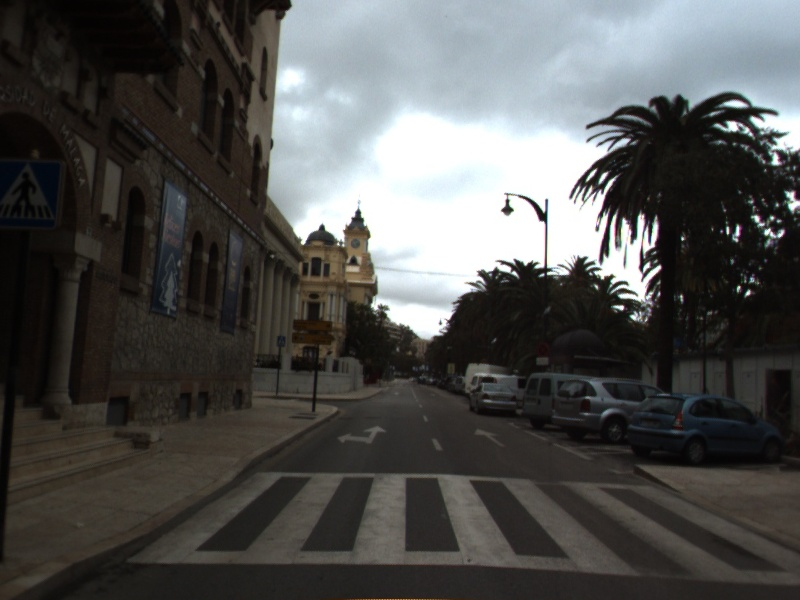STRAIGHT: (472, 426, 507, 449)
STRAIGHT_LEFT: (335, 423, 389, 446)
